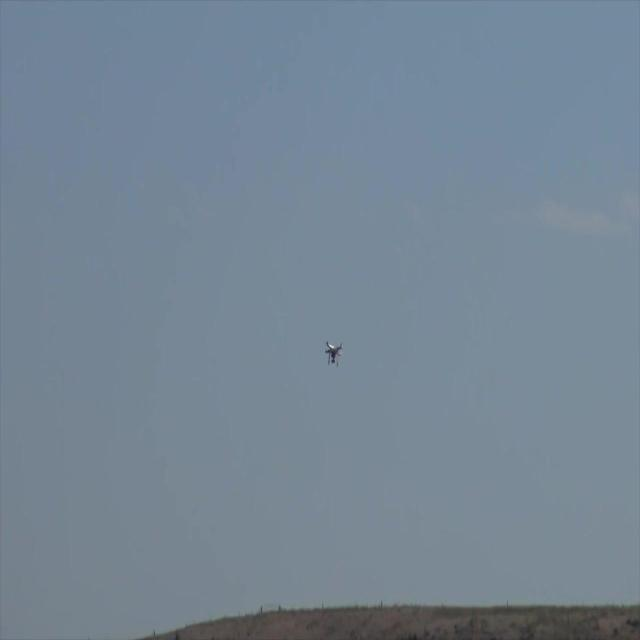drone: (322, 337, 344, 372)
